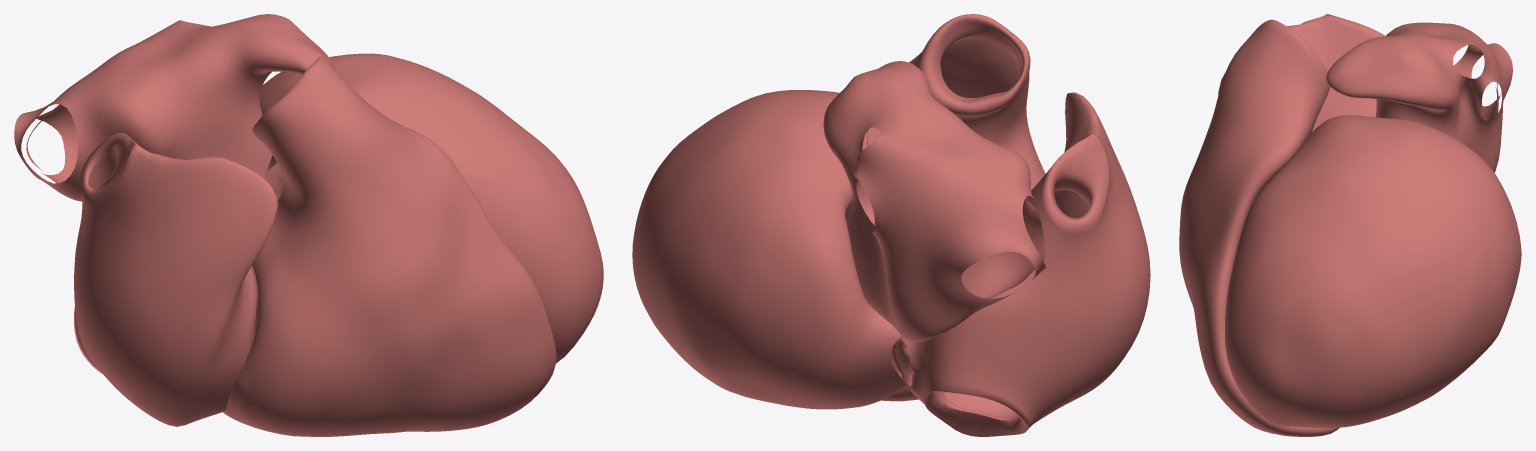
The model's file is hra-female-cardiac-visceral-01.glb.
3 renders of one model, left to right at view 1: azimuth 30°, elevation 25°; view 2: azimuth 150°, elevation 25°; view 3: azimuth 270°, elevation 25°, orthographic. The views are drawn at different scales.
Parts seen in each view (by area): view 1: VH_F_right_ventricle, VH_F_right_cardiac_atrium, VH_F_left_ventricle, VH_F_left_cardiac_atrium; view 2: VH_F_left_ventricle, VH_F_right_cardiac_atrium, VH_F_left_cardiac_atrium, VH_F_right_ventricle; view 3: VH_F_left_ventricle, VH_F_right_ventricle, VH_F_left_cardiac_atrium, VH_F_right_cardiac_atrium.
Boxes of the visible parts, box(x1,y1,x2,y2) form: VH_F_right_ventricle: box(222, 57, 556, 436); VH_F_right_cardiac_atrium: box(74, 132, 278, 426); VH_F_left_ventricle: box(259, 53, 603, 363); VH_F_left_cardiac_atrium: box(14, 14, 335, 201); VH_F_left_ventricle: box(632, 90, 906, 409); VH_F_right_cardiac_atrium: box(890, 92, 1150, 436); VH_F_left_cardiac_atrium: box(823, 61, 1046, 342); VH_F_right_ventricle: box(881, 14, 1045, 401); VH_F_left_ventricle: box(1225, 115, 1521, 427); VH_F_right_ventricle: box(1179, 19, 1339, 436); VH_F_left_cardiac_atrium: box(1326, 22, 1512, 172); VH_F_right_cardiac_atrium: box(1218, 14, 1385, 132).
Bounding box in the file's own units: 0.1425 × 0.11 × 0.1015.
